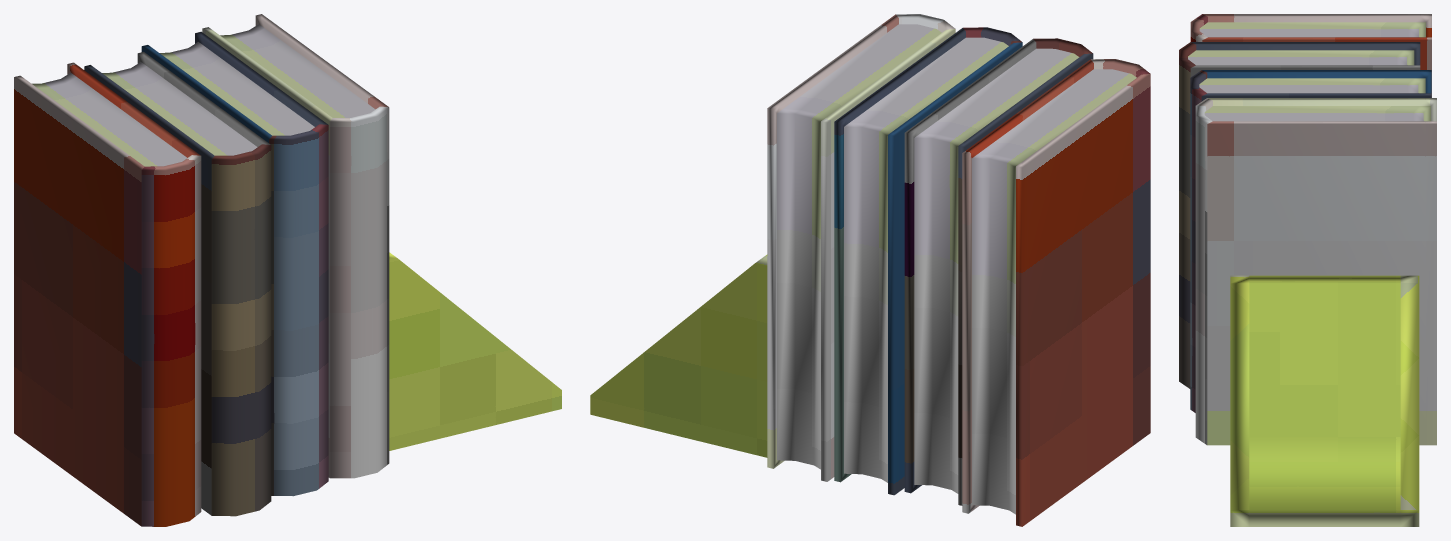
Rendered from a_com_house_a01_book02.gltf.
3 views of the same model, side by side, from view 1: azimuth 30°, elevation 25°; view 2: azimuth 150°, elevation 25°; view 3: azimuth 270°, elevation 25° (orthographic). The views are drawn at different scales.
Parts seen in each view (by area): view 1: um_a_com_house_a01_book02_model_a_com_house_a01_book02_model; view 2: um_a_com_house_a01_book02_model_a_com_house_a01_book02_model; view 3: um_a_com_house_a01_book02_model_a_com_house_a01_book02_model.
Boxes of the visible parts, <box> form: um_a_com_house_a01_book02_model_a_com_house_a01_book02_model: <box>14,14,561,526</box>; um_a_com_house_a01_book02_model_a_com_house_a01_book02_model: <box>590,14,1150,526</box>; um_a_com_house_a01_book02_model_a_com_house_a01_book02_model: <box>1179,14,1436,526</box>.
Bounding box in the file's own units: 0.4232 × 0.3307 × 0.2407.
Materials: 1 (1 with a texture image).
